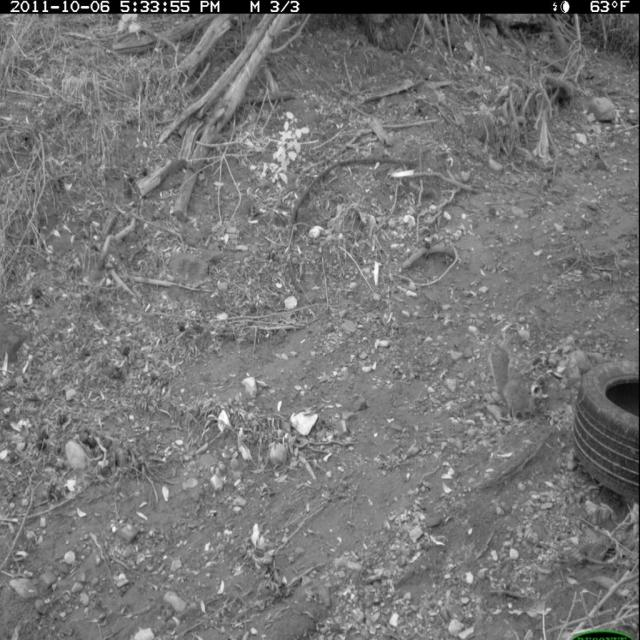squirrel: (485, 347, 544, 426)
